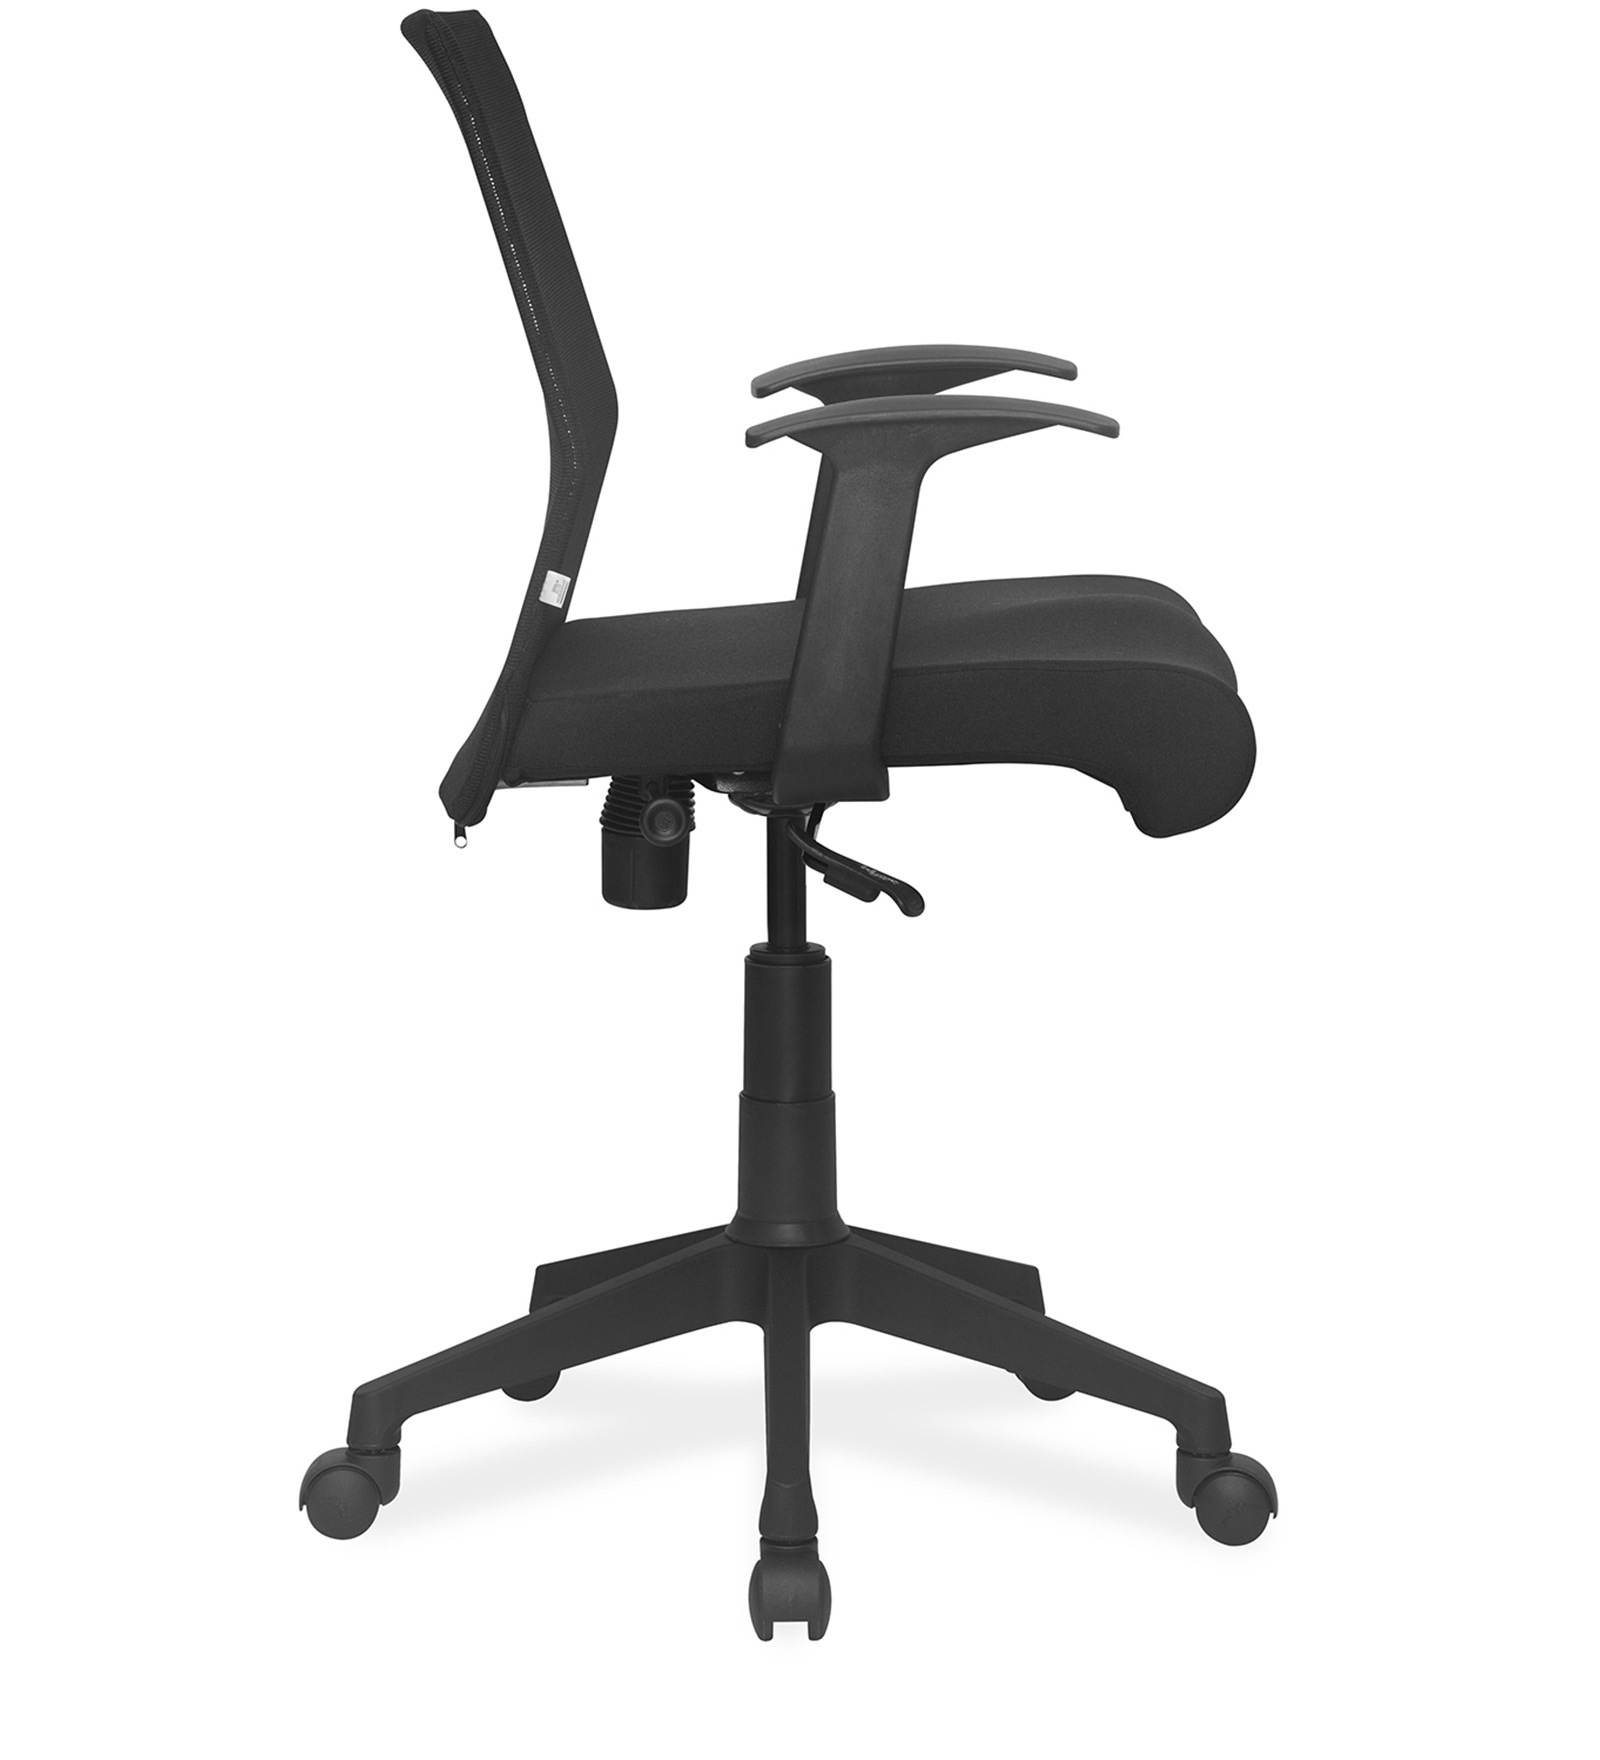Thames Low Back Mesh Office Chair in Black Colour by Nilkamal: (310, 5, 1306, 1676)
